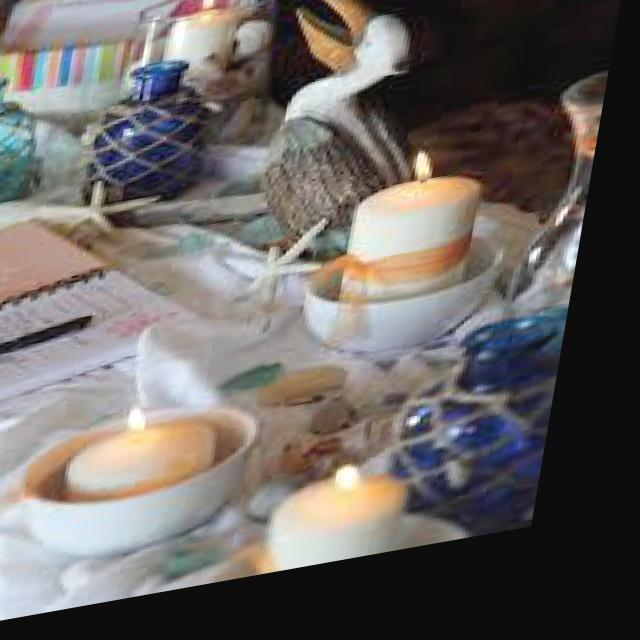Fire: (394, 155, 459, 212), (335, 474, 396, 519), (132, 402, 182, 452)
